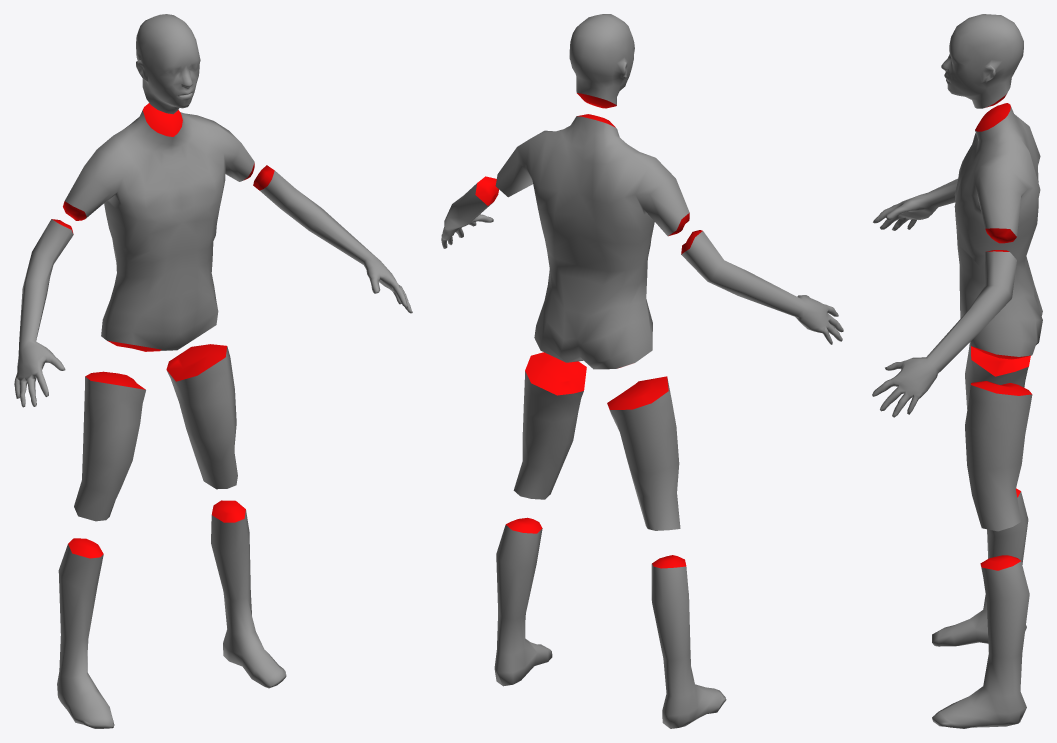
File: player_parts.FBX
3 views of the same model, side by side, from view 1: azimuth 30°, elevation 25°; view 2: azimuth 150°, elevation 25°; view 3: azimuth 270°, elevation 25° (orthographic).
Visible parts, largest first — view 1: p_torso, p_up_leg2, p_up_leg1, p_down_leg2, p_down_leg1, P_Head, p_arm2, p_arm1; view 2: p_torso, p_up_leg2, p_up_leg1, p_down_leg2, p_down_leg1, p_arm2, P_Head, p_arm1; view 3: p_torso, p_down_leg1, p_up_leg1, P_Head, p_arm1, p_down_leg2, p_up_leg2, p_arm2.
Boxes of the visible parts, x1,y1,x2,y2 form: p_torso: [63, 103, 254, 351]; p_up_leg2: [74, 371, 145, 521]; p_up_leg1: [166, 344, 237, 489]; p_down_leg2: [57, 538, 114, 728]; p_down_leg1: [211, 500, 286, 688]; P_Head: [136, 14, 200, 114]; p_arm2: [14, 219, 73, 407]; p_arm1: [253, 165, 412, 313]; p_torso: [495, 114, 689, 369]; p_up_leg2: [607, 376, 680, 530]; p_up_leg1: [513, 352, 586, 499]; p_down_leg2: [651, 555, 726, 728]; p_down_leg1: [494, 517, 552, 686]; p_arm2: [681, 230, 843, 344]; P_Head: [569, 14, 634, 108]; p_arm1: [441, 176, 498, 248]; p_torso: [954, 103, 1042, 359]; p_down_leg1: [932, 555, 1029, 728]; p_up_leg1: [965, 381, 1032, 531]; P_Head: [941, 14, 1023, 108]; p_arm1: [872, 250, 1016, 417]; p_down_leg2: [932, 488, 1028, 646]; p_up_leg2: [965, 343, 1030, 409]; p_arm2: [873, 178, 958, 230].
Bounding box in the file's own units: 43.74 × 72.25 × 16.69.
